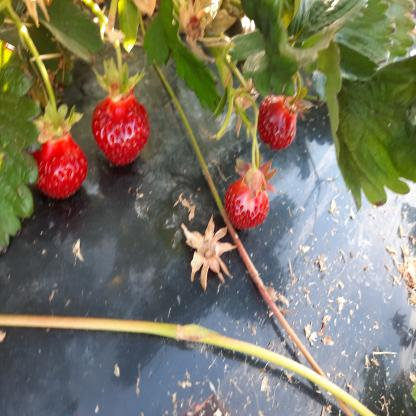ripe: (94, 94, 152, 164), (28, 133, 86, 196), (259, 99, 303, 146), (228, 180, 267, 231)
